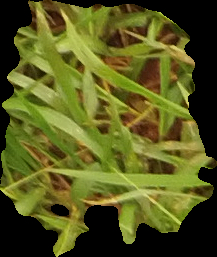grass: (1, 1, 215, 256)
